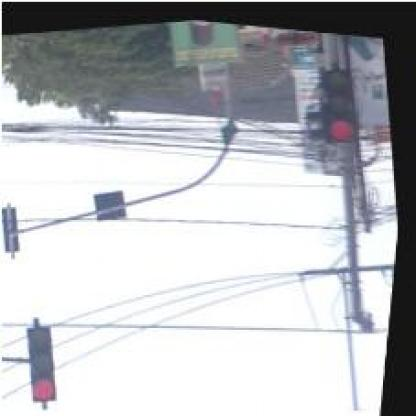red: (22, 316, 73, 406), (315, 54, 367, 140)
